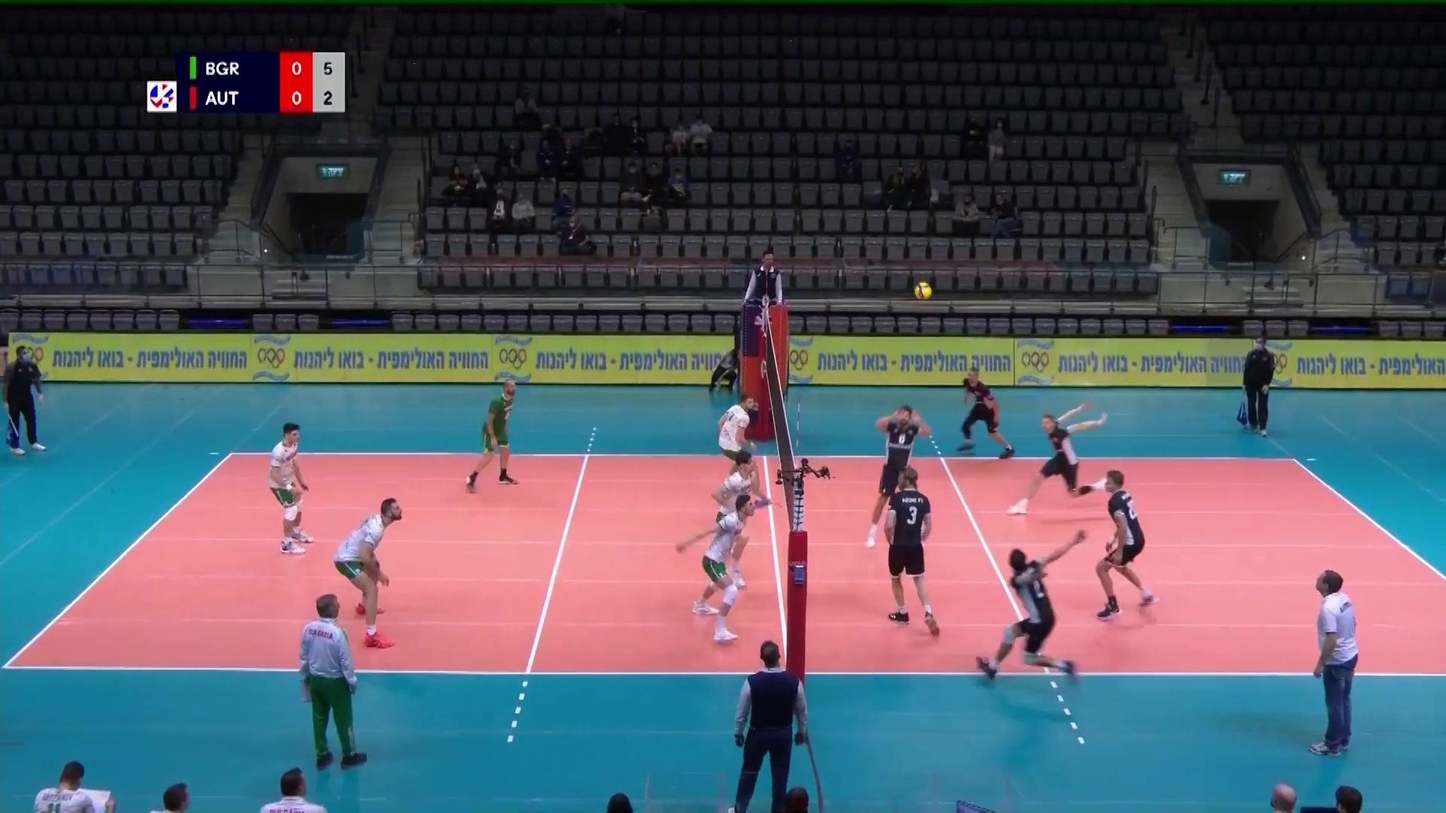ball: (914, 282, 933, 301)
